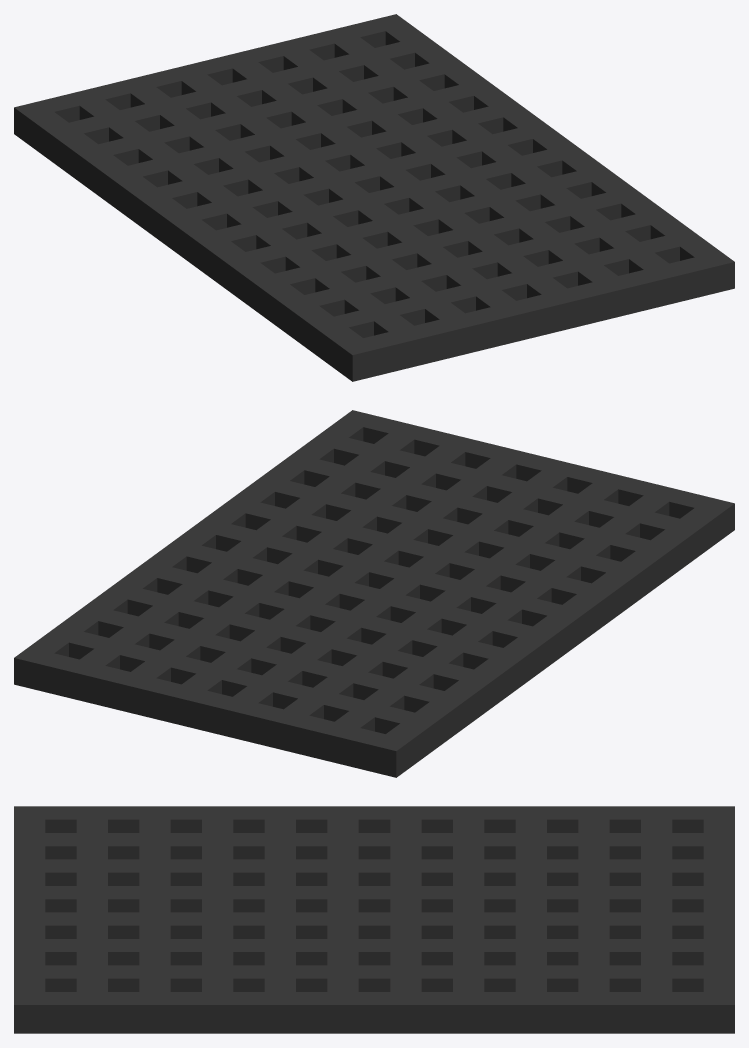
The model's file is gratedplatform.obj.
The picture shows the model from 3 angles, top to bottom: view 1: azimuth 30°, elevation 25°; view 2: azimuth 150°, elevation 25°; view 3: azimuth 270°, elevation 25°; orthographic projection. The views are drawn at different scales.
Bounding box in the file's own units: 1.5 × 0.1 × 2.3.
Materials: 1 (1 with a texture image).
